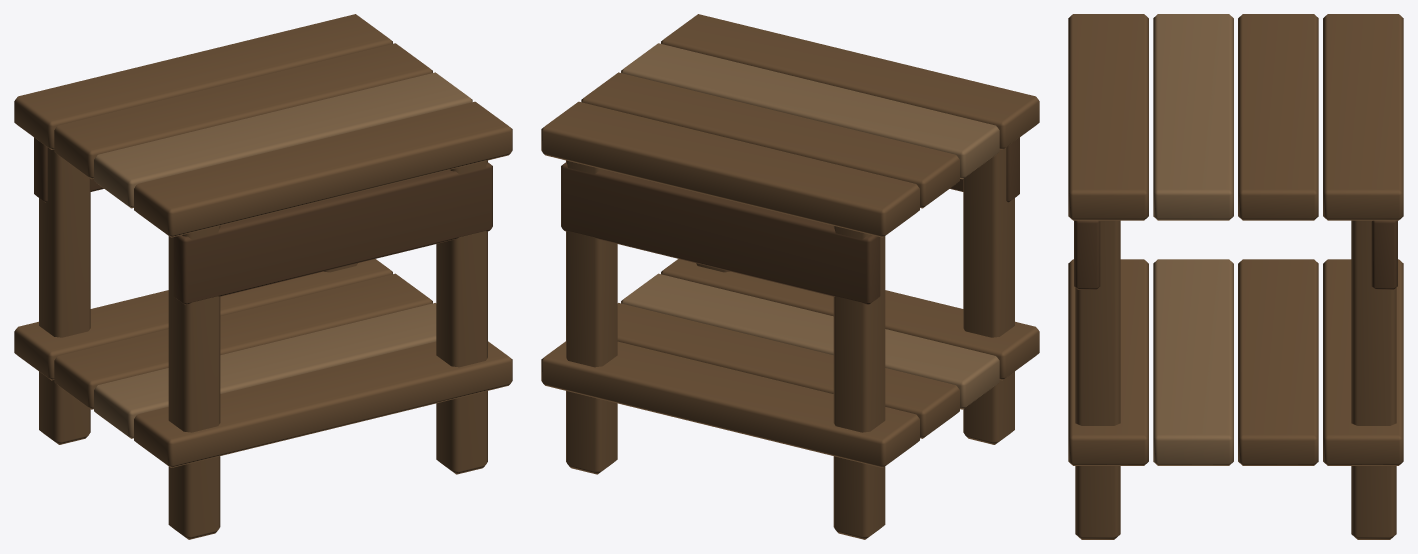
Rendered from RadioTable02.fbx.
The picture shows the model from 3 angles, left to right: view 1: azimuth 30°, elevation 25°; view 2: azimuth 150°, elevation 25°; view 3: azimuth 270°, elevation 25°; orthographic projection. The views are drawn at different scales.
Visible parts, largest first — view 1: RadioTable02.001; view 2: RadioTable02.001; view 3: RadioTable02.001.
Part boxes in pixels (x1=…): RadioTable02.001: x1=14, y1=14, x2=512, y2=539; RadioTable02.001: x1=541, y1=14, x2=1039, y2=539; RadioTable02.001: x1=1068, y1=14, x2=1403, y2=539.
Size of the model in its own units: 80 by 75.25 by 63.2.
